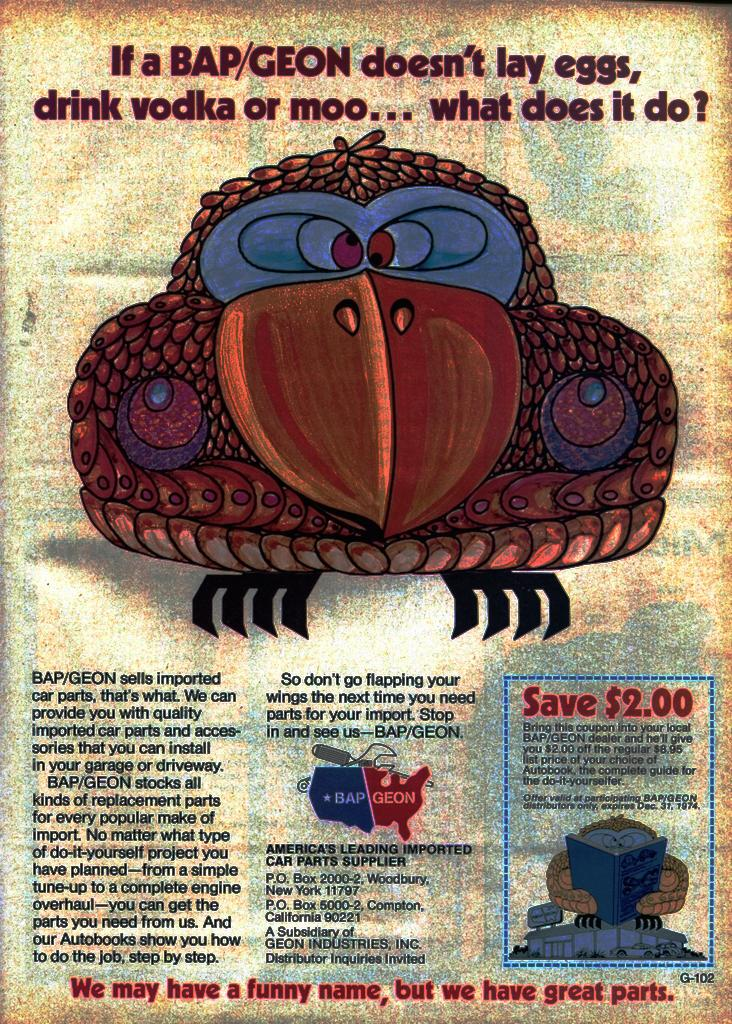Owl: (65, 116, 688, 654)
